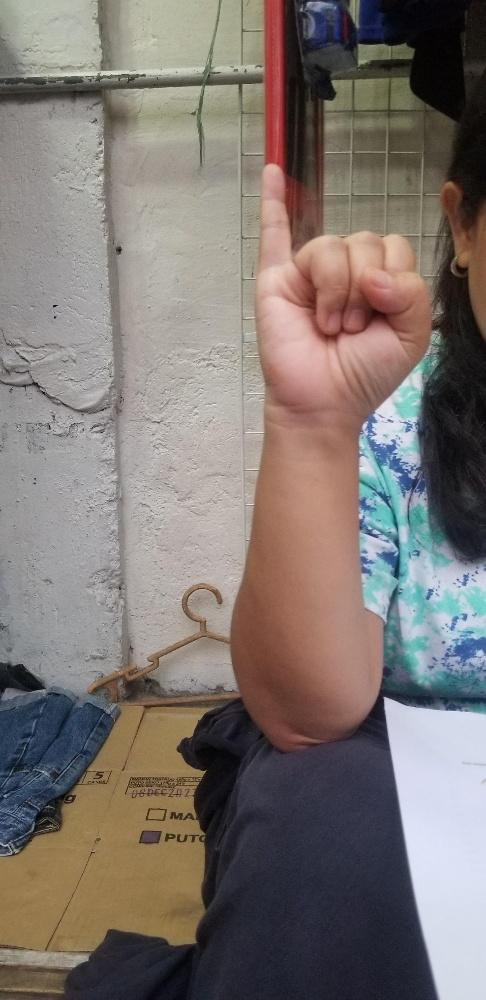i: (255, 159, 433, 411)
